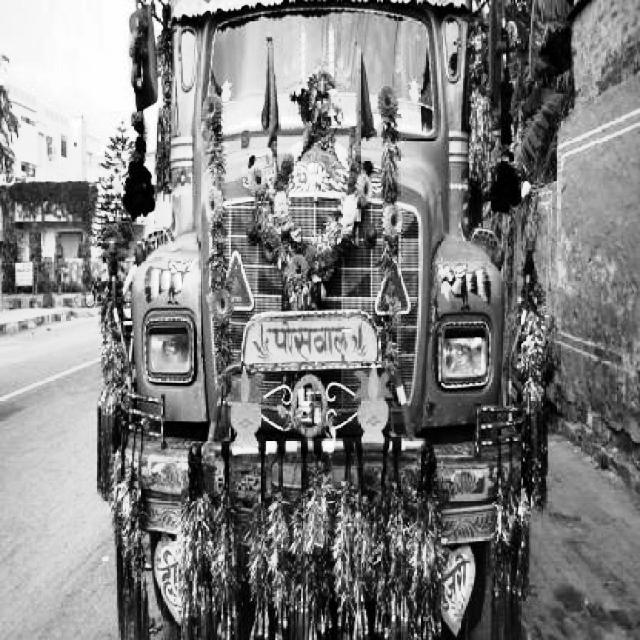HCV: (114, 1, 540, 640)
